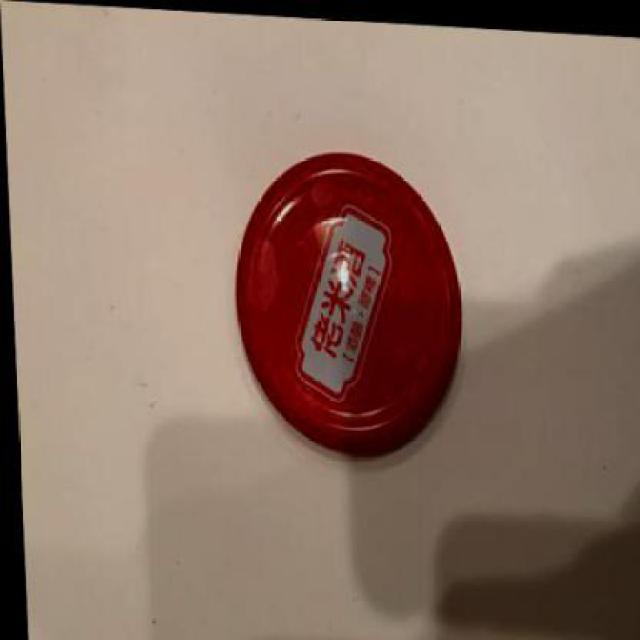Metal: (234, 144, 468, 461)
